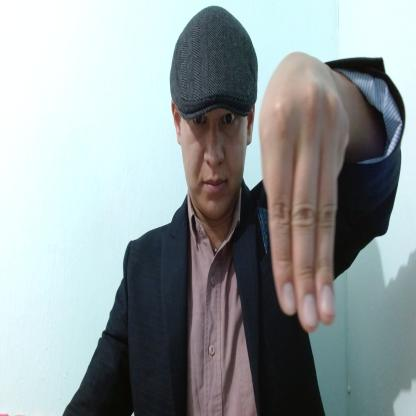M: (260, 52, 353, 334)
